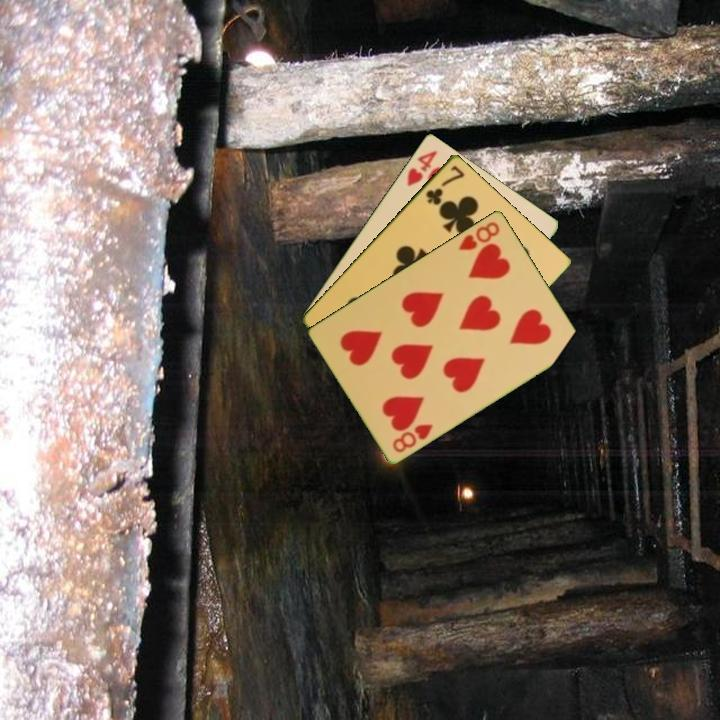4h: (403, 146, 440, 189)
7c: (422, 161, 467, 208)
8h: (455, 218, 503, 253), (389, 420, 436, 455)
